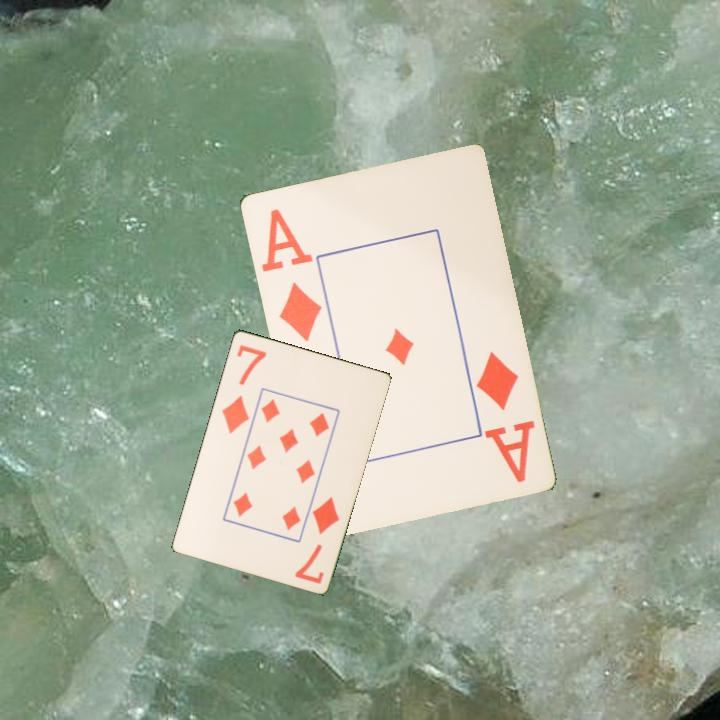7d: (218, 340, 269, 436), (291, 493, 342, 587)
Ad: (257, 205, 324, 344), (472, 347, 538, 485)
